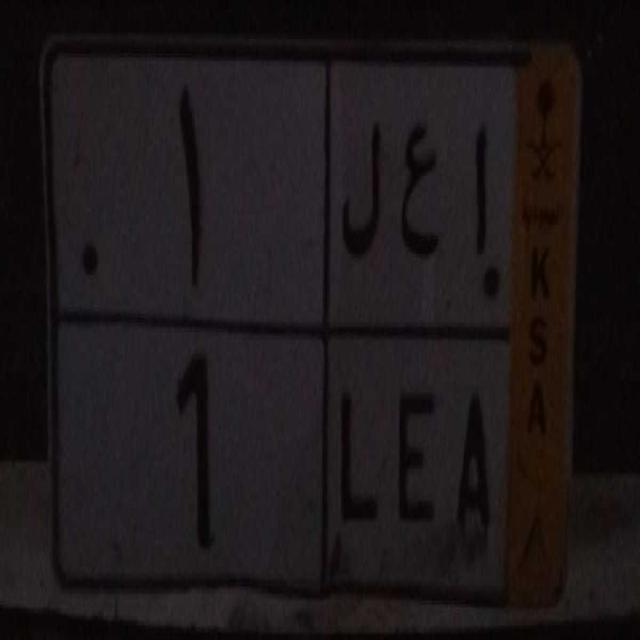license_plate: (52, 303, 508, 619)
